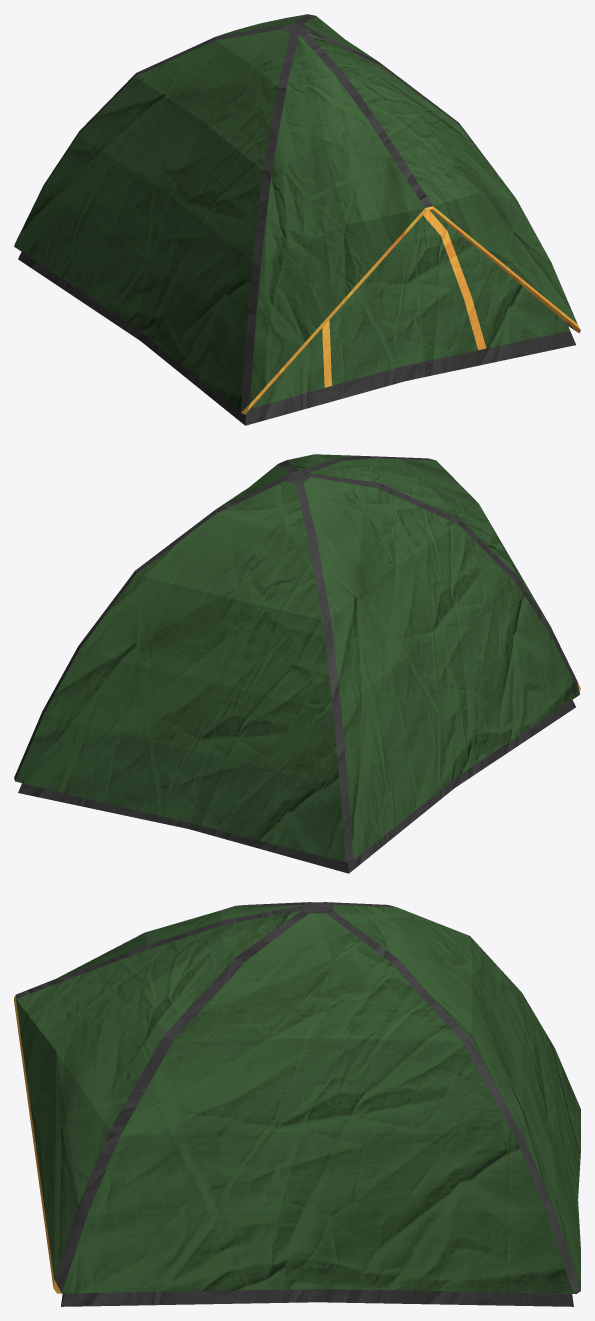
File: Tent.fbx
The picture shows the model from 3 angles, top to bottom: view 1: azimuth 30°, elevation 25°; view 2: azimuth 150°, elevation 25°; view 3: azimuth 270°, elevation 25°; orthographic projection. The views are drawn at different scales.
Visible parts, largest first — view 1: Cover, Tent; view 2: Cover, Tent; view 3: Cover, Tent.
Part boxes in pixels (box(x1,y1,x2,y2)): Cover: box(14, 14, 580, 414); Tent: box(18, 210, 575, 425); Cover: box(14, 454, 580, 862); Tent: box(18, 700, 575, 873); Cover: box(14, 902, 580, 1293); Tent: box(61, 1289, 573, 1306).
Bounding box in the file's own units: 410 × 315 × 526.
Materials: 6 (6 with a texture image).
